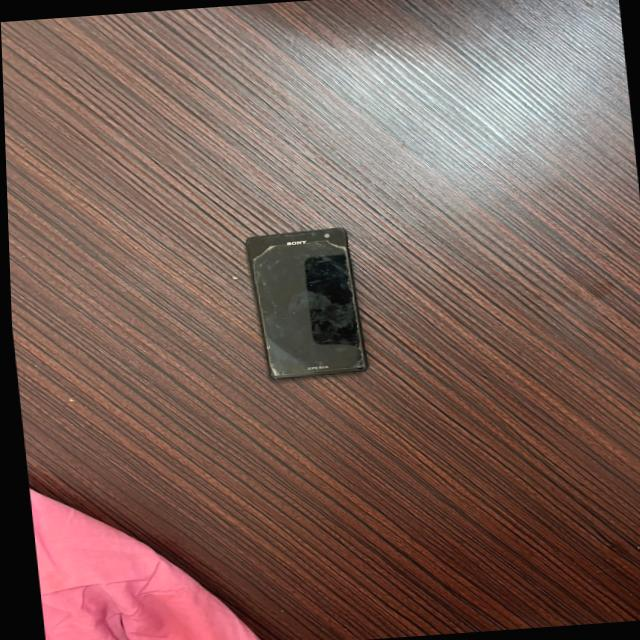Smartphone: (243, 228, 364, 379)
